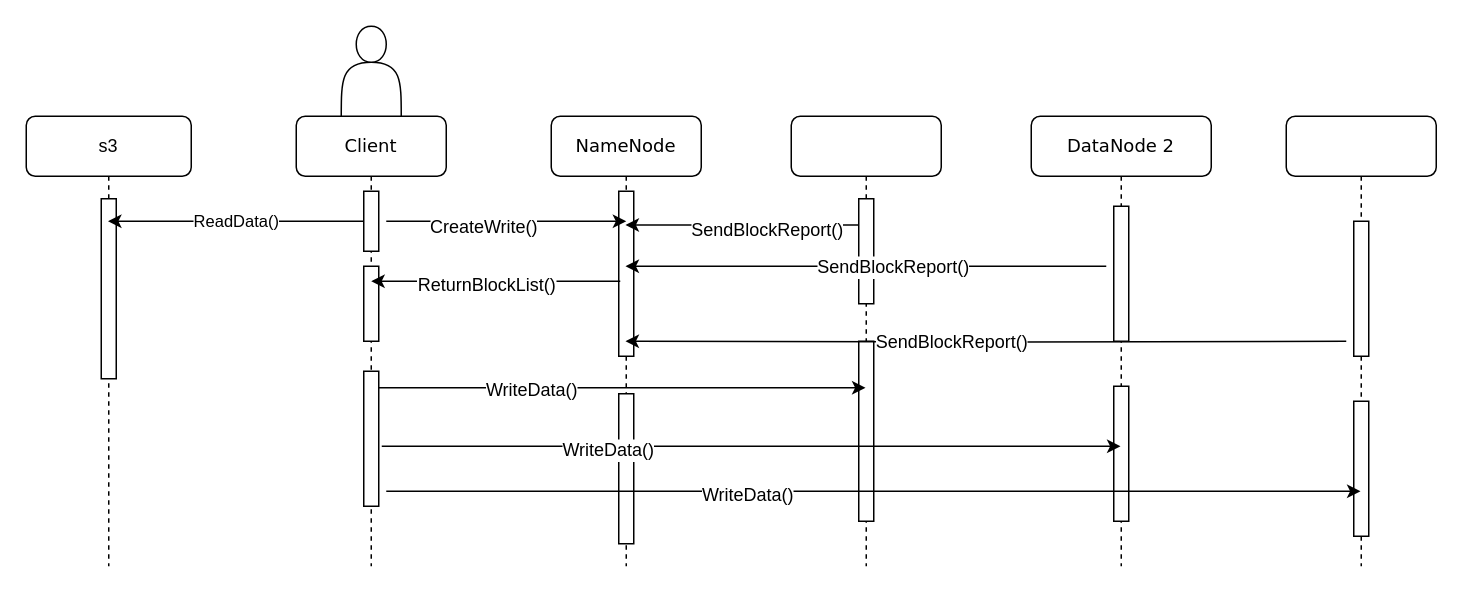
Image size: 1463x593. Some labels were removed from this diagram. Each missing label, with the centre of its shape:
"DataNode 1" belongs at pixel 865 340.
"DataNode 3" belongs at pixel 1360 340.
